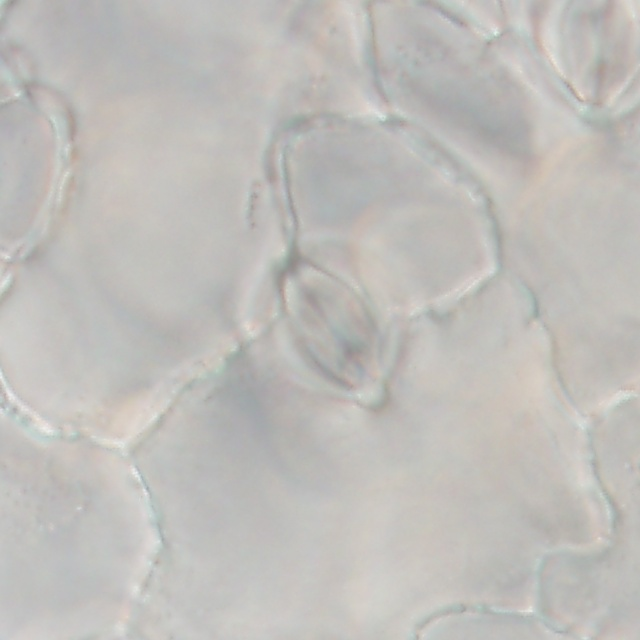center: (278, 265, 370, 369), (559, 53, 613, 69)
stomata-huw1: (230, 234, 409, 407), (533, 0, 639, 122)
